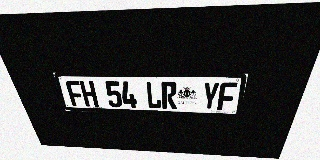4: (120, 81, 137, 108)
5: (104, 81, 123, 108)
F: (217, 82, 237, 111), (65, 81, 85, 106)
H: (79, 81, 99, 107)
L: (145, 81, 162, 109)
R: (161, 82, 177, 109)
Y: (201, 82, 220, 110)
